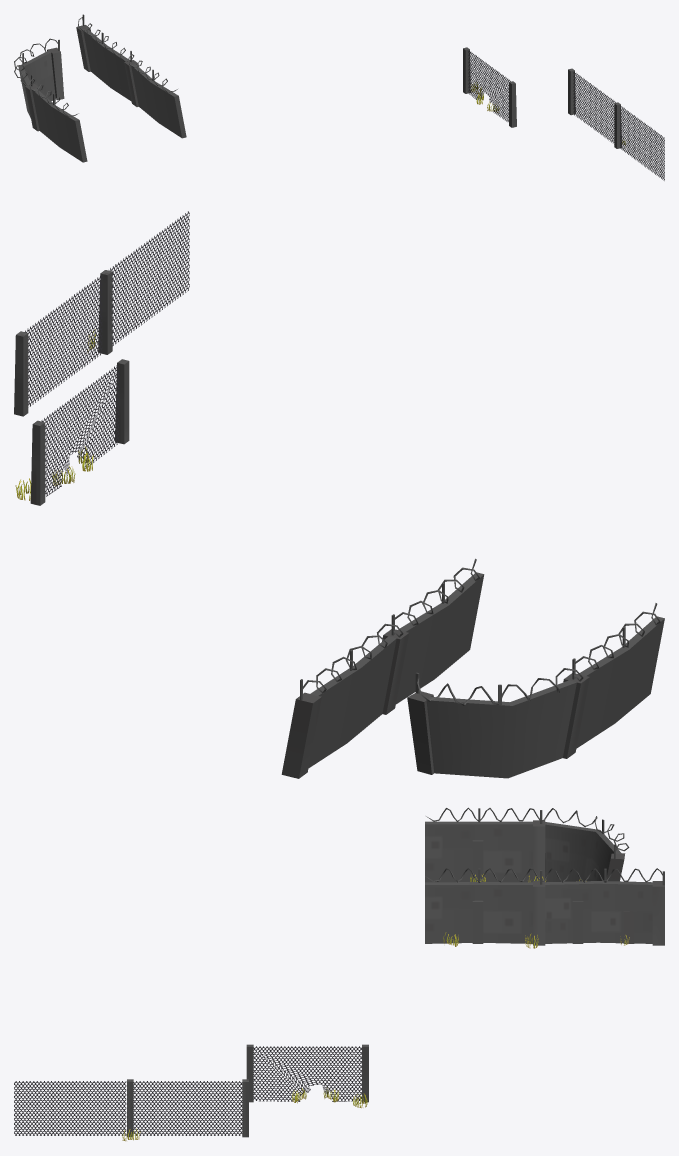
The model's file is SM_Walls.fbx.
3 views of the same model, one above another, from view 1: azimuth 30°, elevation 25°; view 2: azimuth 150°, elevation 25°; view 3: azimuth 270°, elevation 25° (orthographic). The views are drawn at different scales.
Parts seen in each view (by area): view 1: SM_Walls_01, SM_Walls_02, SM_Fences_01, SM_Fences_02; view 2: SM_Walls_02, SM_Walls_01, SM_Fences_01, SM_Fences_02; view 3: SM_Walls_01, SM_Walls_02, SM_Fences_01, SM_Fences_02.
Part boxes in pixels (bbox=[...]): SM_Walls_01: bbox=[76, 14, 186, 138]; SM_Walls_02: bbox=[14, 38, 87, 162]; SM_Fences_01: bbox=[568, 68, 664, 180]; SM_Fences_02: bbox=[463, 47, 516, 127]; SM_Walls_02: bbox=[407, 603, 664, 778]; SM_Walls_01: bbox=[281, 558, 484, 778]; SM_Fences_01: bbox=[14, 211, 189, 416]; SM_Fences_02: bbox=[15, 359, 129, 505]; SM_Walls_01: bbox=[425, 868, 664, 948]; SM_Walls_02: bbox=[425, 807, 629, 882]; SM_Fences_01: bbox=[14, 1079, 248, 1141]; SM_Fences_02: bbox=[246, 1044, 368, 1108].
Size of the model in its own units: 42.49 by 5.11 by 43.47.
